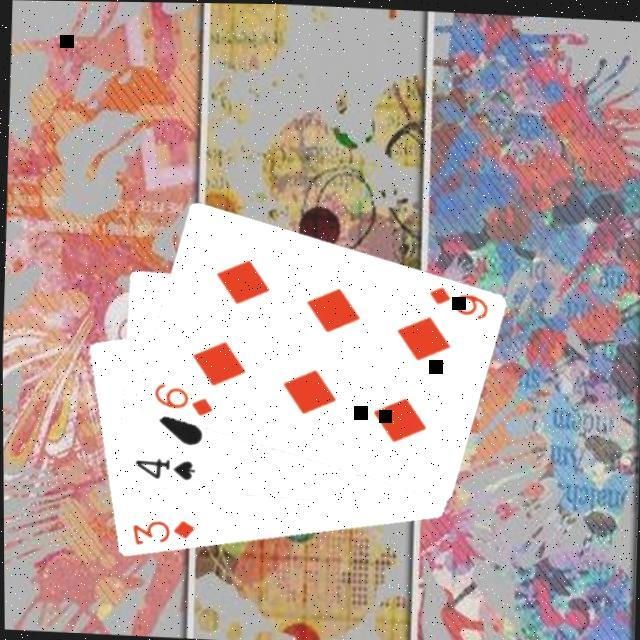3D: (127, 516, 198, 552)
4S: (130, 454, 197, 484)
6D: (149, 379, 216, 420), (424, 282, 492, 322)
